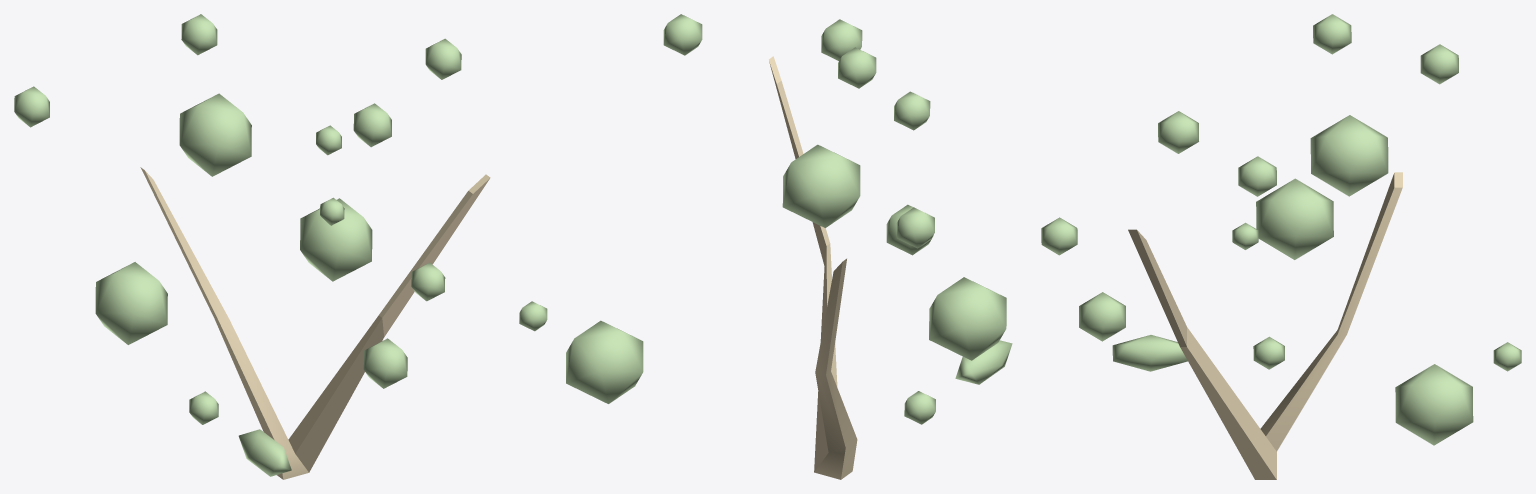
3 renders of one model, left to right at view 1: azimuth 30°, elevation 25°; view 2: azimuth 150°, elevation 25°; view 3: azimuth 270°, elevation 25°, orthographic. The views are drawn at different scales.
Visible parts, largest first — view 1: Box071, Sphere513, Sphere519, Sphere297, Sphere520, Sphere521, Sphere517, Sphere514, Sphere515, Sphere516, Sphere518, Sphere296 (+2 smaller); view 2: Box071, Sphere513, Sphere519, Sphere297, Sphere521, Sphere514, Sphere517, Sphere515, Sphere516, Sphere518, Sphere296, Sphere520 (+1 smaller); view 3: Box071, Sphere297, Sphere513, Sphere519, Sphere521, Sphere520, Sphere517, Sphere514, Sphere515, Sphere516, Sphere518, Sphere296 (+2 smaller).
Part boxes in pixels (<box>): Box071: <box>140,167,490,479</box>; Sphere513: <box>179,93,251,176</box>; Sphere519: <box>95,262,167,344</box>; Sphere297: <box>300,198,372,281</box>; Sphere520: <box>363,338,407,388</box>; Sphere521: <box>238,429,291,476</box>; Sphere517: <box>353,103,391,147</box>; Sphere514: <box>425,38,461,79</box>; Sphere515: <box>181,14,217,55</box>; Sphere516: <box>14,86,49,127</box>; Sphere518: <box>411,262,445,301</box>; Sphere296: <box>189,391,218,424</box>; Box071: <box>769,56,857,479</box>; Sphere513: <box>782,144,860,227</box>; Sphere519: <box>929,277,1006,360</box>; Sphere297: <box>566,320,643,403</box>; Sphere521: <box>955,340,1012,384</box>; Sphere514: <box>663,14,702,55</box>; Sphere517: <box>821,19,862,60</box>; Sphere515: <box>838,47,876,88</box>; Sphere516: <box>896,207,934,248</box>; Sphere518: <box>894,91,930,130</box>; Sphere296: <box>904,391,935,424</box>; Sphere520: <box>886,204,933,255</box>; Box071: <box>1128,172,1402,479</box>; Sphere297: <box>1395,364,1473,445</box>; Sphere513: <box>1310,115,1388,196</box>; Sphere519: <box>1256,178,1333,259</box>; Sphere521: <box>1112,335,1187,371</box>; Sphere520: <box>1079,292,1125,341</box>; Sphere517: <box>1158,111,1198,153</box>; Sphere514: <box>1238,156,1276,196</box>; Sphere515: <box>1313,14,1351,54</box>; Sphere516: <box>1420,44,1458,84</box>; Sphere518: <box>1041,217,1077,255</box>; Sphere296: <box>1253,336,1284,369</box>.
Bounding box in the file's own units: 7.26 × 8.48 × 8.58.
